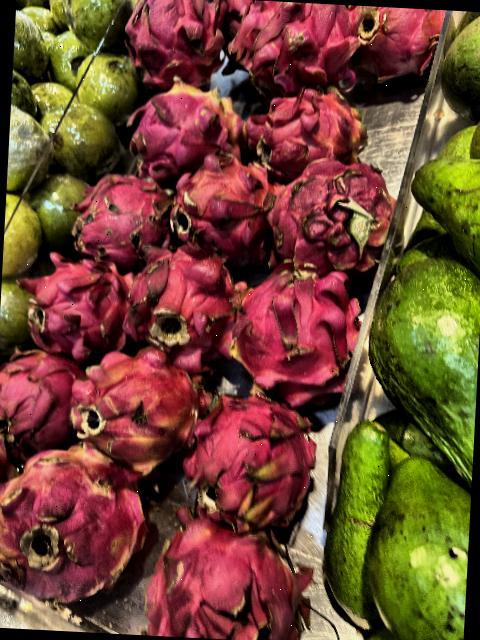buah-naga-belum-matang: (0, 441, 151, 618), (65, 347, 201, 482), (161, 149, 282, 275), (110, 76, 252, 183), (234, 75, 374, 179)
buah-naga-matang: (209, 252, 364, 408), (150, 506, 329, 640), (179, 372, 320, 531), (268, 157, 394, 278), (17, 250, 146, 360), (118, 245, 236, 362), (226, 0, 370, 94), (72, 156, 173, 267), (122, 0, 232, 96), (0, 342, 85, 452)
